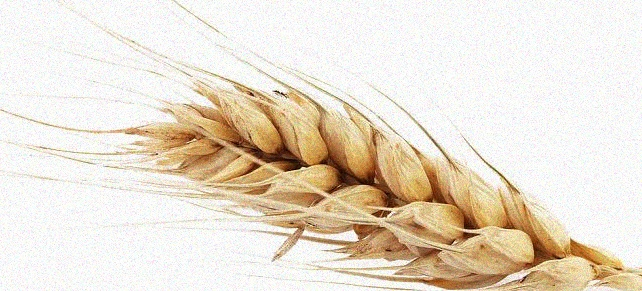wheat: (76, 33, 631, 289)
